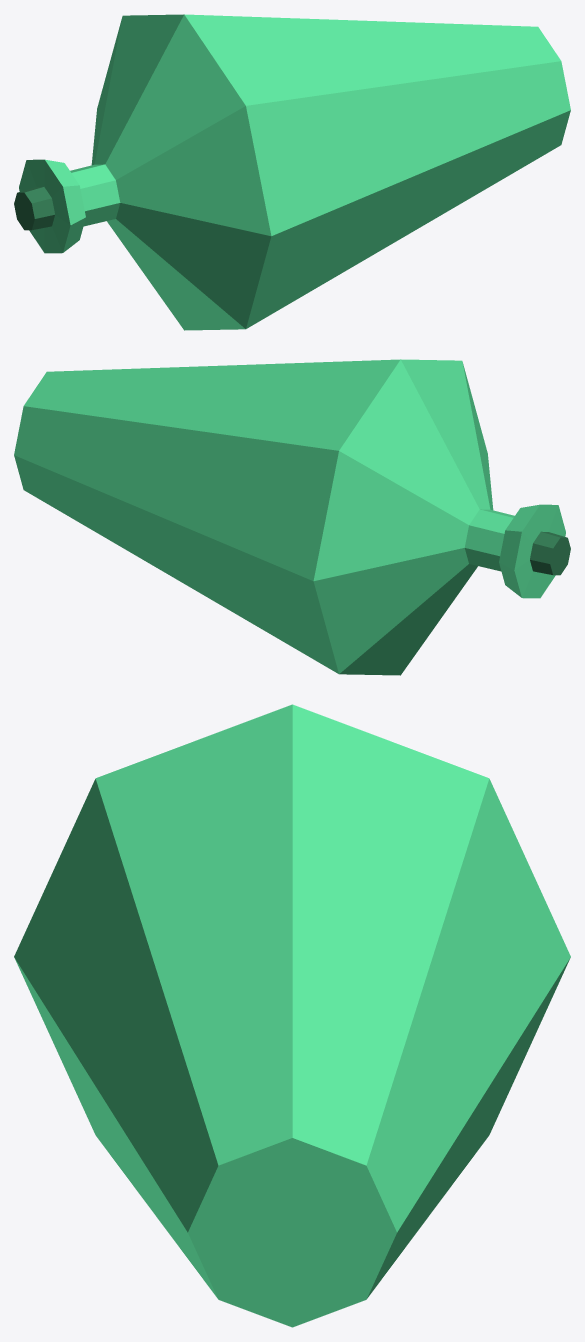
Rendered from FatePotion.fbx.
3 views of the same model, one above another, from view 1: azimuth 30°, elevation 25°; view 2: azimuth 150°, elevation 25°; view 3: azimuth 270°, elevation 25° (orthographic). The views are drawn at different scales.
Visible parts, largest first — view 1: fate; view 2: fate; view 3: fate.
Part boxes in pixels (x1=…): fate: x1=14, y1=14, x2=570, y2=330; fate: x1=14, y1=359, x2=570, y2=675; fate: x1=14, y1=704, x2=570, y2=1327.
Bounding box in the file's own units: 400 × 235 × 235.
